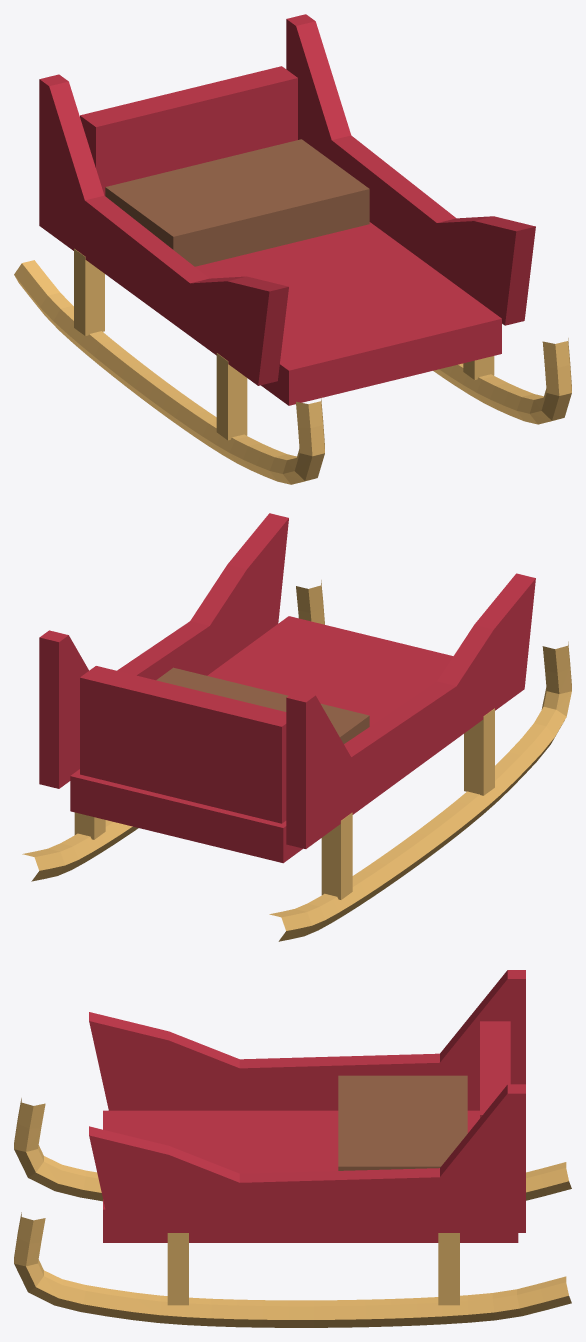
File: three-d-christmas-village-christmas-village-santa-sleigh-4633959a.glb
The picture shows the model from 3 angles, top to bottom: view 1: azimuth 30°, elevation 25°; view 2: azimuth 150°, elevation 25°; view 3: azimuth 270°, elevation 25°; orthographic projection. The views are drawn at different scales.
Visible parts, largest first — view 1: santa-sleigh; view 2: santa-sleigh; view 3: santa-sleigh.
Part boxes in pixels (x1,y1,x2,y2): santa-sleigh: [14, 14, 571, 484]; santa-sleigh: [22, 513, 571, 941]; santa-sleigh: [14, 970, 571, 1327].
Size of the model in its own units: 0.9701 by 0.8462 by 1.81.
